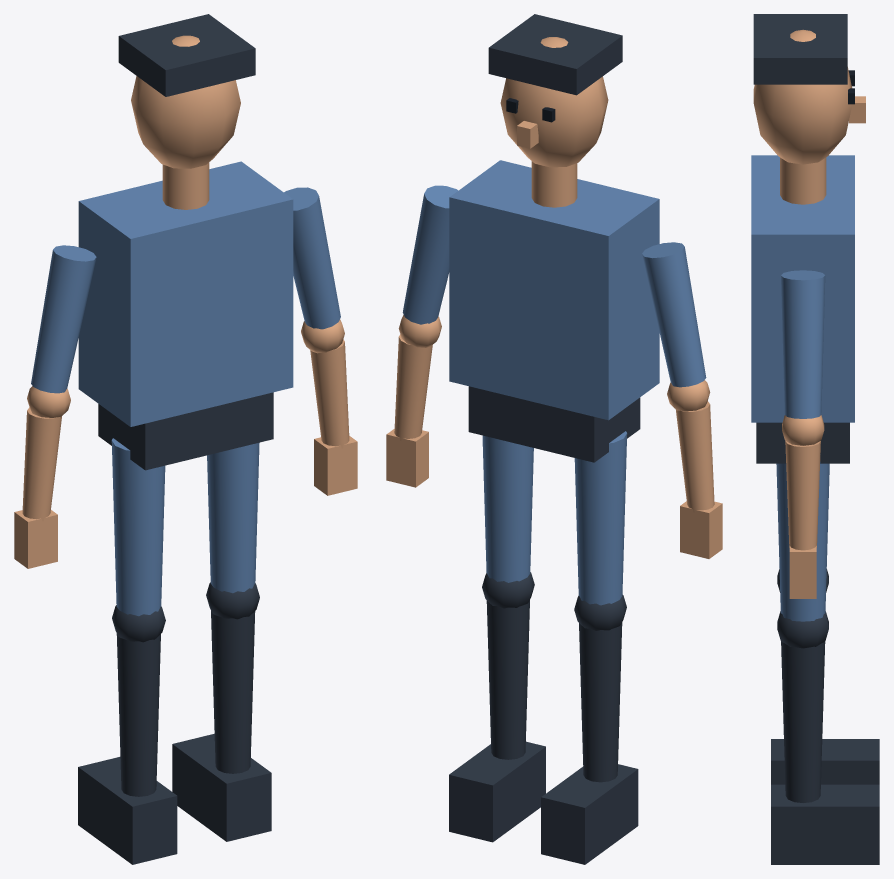
Rendered from person.gltf.
The picture shows the model from 3 angles, left to right: view 1: azimuth 30°, elevation 25°; view 2: azimuth 150°, elevation 25°; view 3: azimuth 270°, elevation 25°; orthographic projection. The views are drawn at different scales.
Parts seen in each view (by area): view 1: Person; view 2: Person; view 3: Person.
Part boxes in pixels (x1,y1,x2,y2): Person: (14,14,357,864); Person: (386,14,722,864); Person: (751,14,879,864).
Size of the model in its own units: 0.77 by 1.78 by 0.26.
